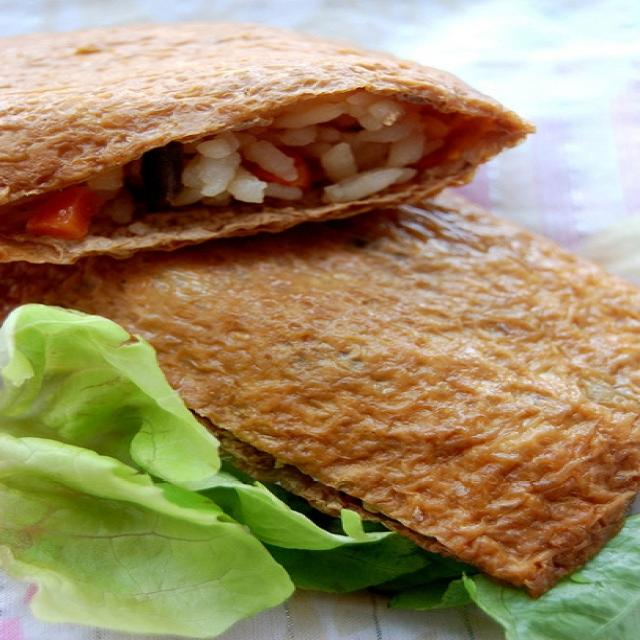寿司卷物: (5, 18, 635, 623)
